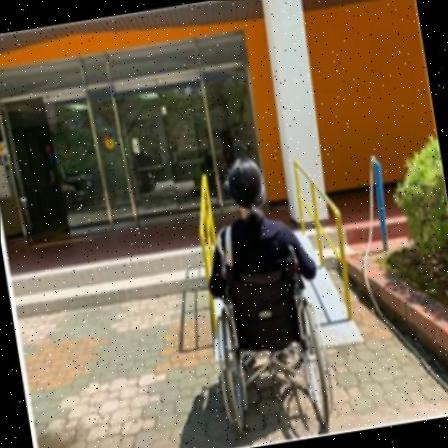wheel: (184, 153, 334, 439)
